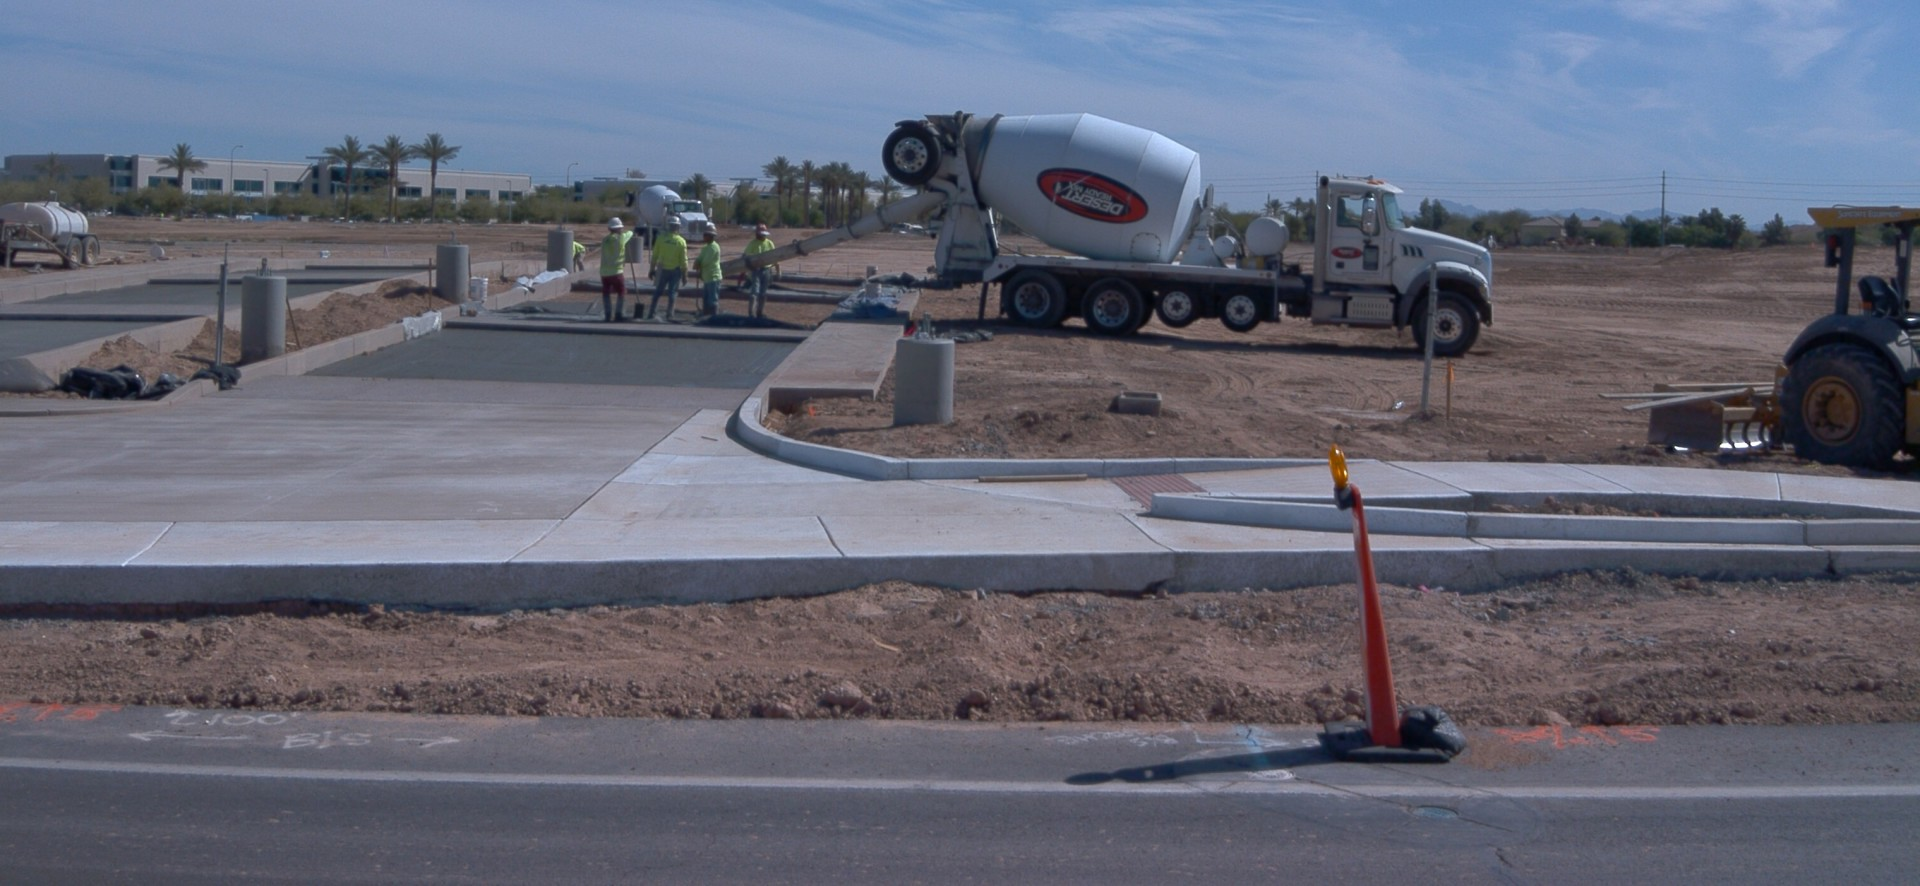TYPE_PEDESTRIAN: (642, 214, 692, 326), (740, 221, 785, 322), (596, 214, 635, 327), (692, 222, 725, 328), (571, 240, 589, 273), (738, 266, 757, 293)
TYPE_VEHICLE: (699, 109, 1495, 357), (1597, 202, 1920, 492), (0, 197, 103, 269), (635, 180, 719, 247), (891, 224, 923, 239)
